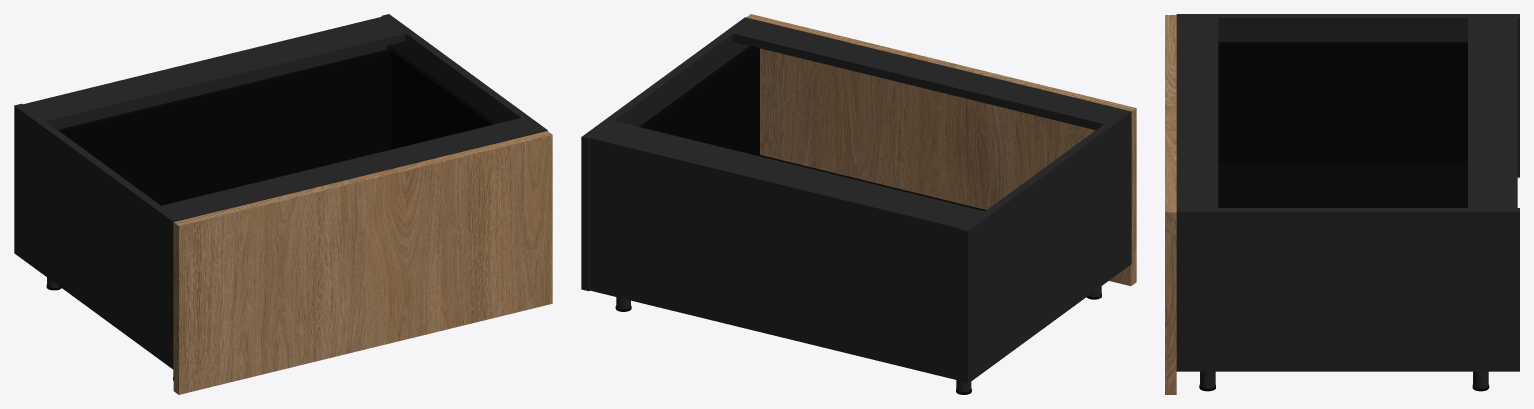
File: cabinet.glb
The picture shows the model from 3 angles, left to right: view 1: azimuth 30°, elevation 25°; view 2: azimuth 150°, elevation 25°; view 3: azimuth 270°, elevation 25°; orthographic projection. The views are drawn at different scales.
Parts seen in each view (by area): view 1: Drawer, Carcass; view 2: Carcass, Drawer; view 3: Carcass, Drawer.
Boxes of the visible parts, bbox=[...] form: Drawer: bbox=[58, 48, 552, 394]; Carcass: bbox=[14, 14, 547, 380]; Carcass: bbox=[581, 17, 1131, 394]; Drawer: bbox=[639, 14, 1136, 285]; Carcass: bbox=[1176, 14, 1519, 391]; Drawer: bbox=[1165, 15, 1467, 394].
Bounding box in the file's own units: 900 × 399 × 682.
3 materials, 1 textured.
